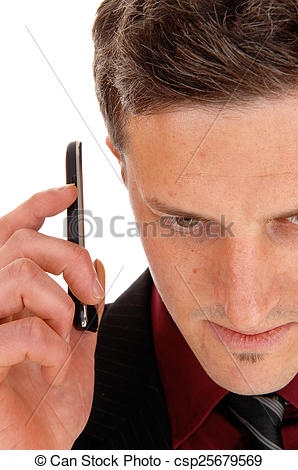phone: (65, 136, 100, 336)
talk: (3, 127, 298, 454)
